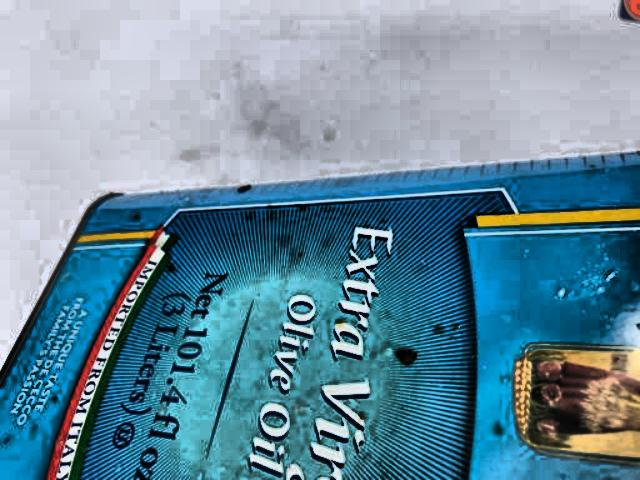Almennt: (29, 142, 640, 480)
